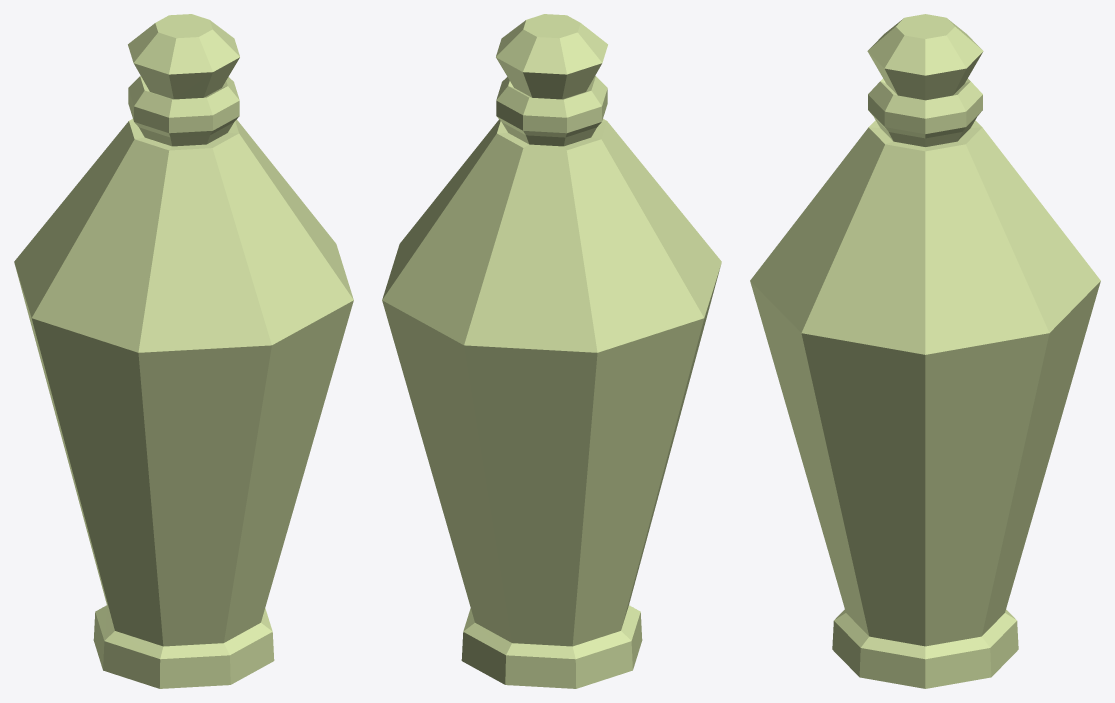
File: potion.fbx
3 renders of one model, left to right at view 1: azimuth 30°, elevation 25°; view 2: azimuth 150°, elevation 25°; view 3: azimuth 270°, elevation 25°, orthographic.
Visible parts, largest first — view 1: potion; view 2: potion; view 3: potion.
Part boxes in pixels (x1,y1,x2,y2): potion: (14, 14, 353, 688); potion: (382, 14, 721, 688); potion: (750, 14, 1100, 688).
Size of the model in its own units: 33.21 by 65.06 by 33.21.
